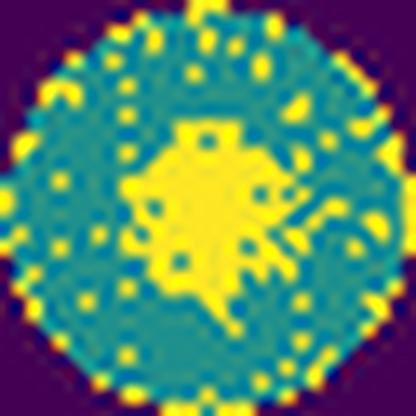Center: (119, 112, 305, 338)
